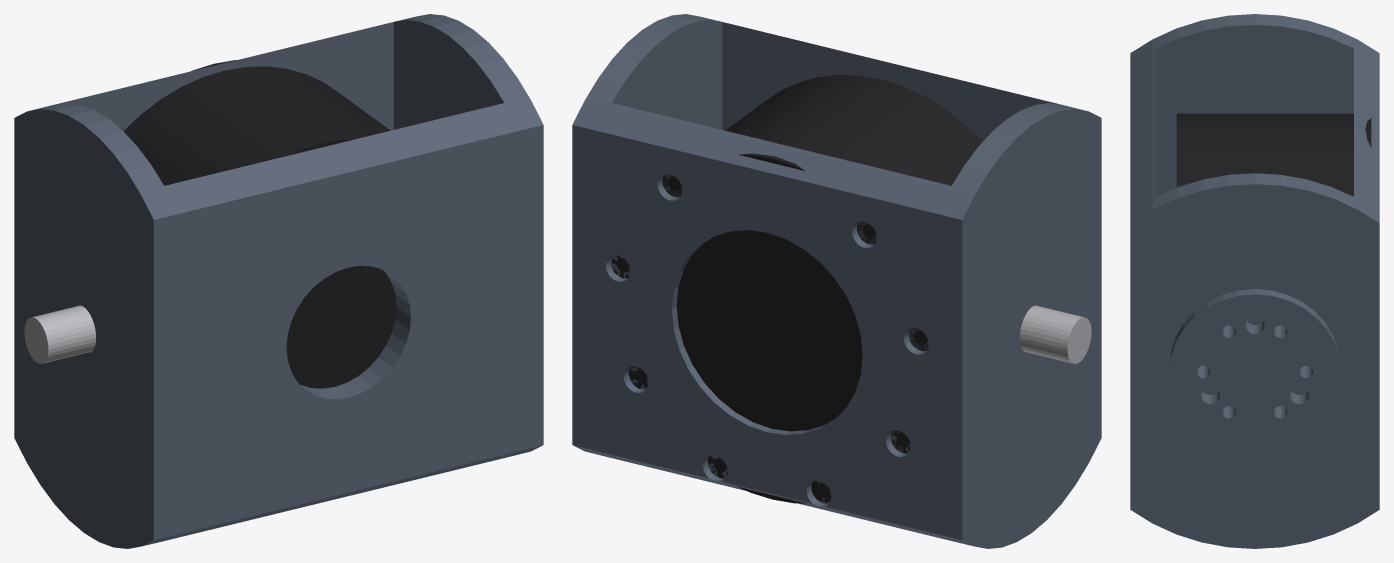
Rendered from hip_roll_L.dae.
3 views of the same model, side by side, from view 1: azimuth 30°, elevation 25°; view 2: azimuth 150°, elevation 25°; view 3: azimuth 270°, elevation 25° (orthographic). The views are drawn at different scales.
Visible parts, largest first — view 1: hip_roll_L-printed, hip_roll_L-motor, hip_roll_L-steel; view 2: hip_roll_L-printed, hip_roll_L-motor, hip_roll_L-steel; view 3: hip_roll_L-printed, hip_roll_L-motor.
Part boxes in pixels (bbox=[...]): hip_roll_L-printed: bbox=[14, 14, 543, 548]; hip_roll_L-motor: bbox=[123, 60, 396, 388]; hip_roll_L-steel: bbox=[24, 305, 95, 363]; hip_roll_L-printed: bbox=[572, 14, 1101, 548]; hip_roll_L-motor: bbox=[612, 74, 982, 503]; hip_roll_L-steel: bbox=[1020, 305, 1091, 363]; hip_roll_L-printed: bbox=[1130, 14, 1379, 548]; hip_roll_L-motor: bbox=[1176, 113, 1371, 196].
Bounding box in the file's own units: 0.1085 × 0.0582 × 0.094.
